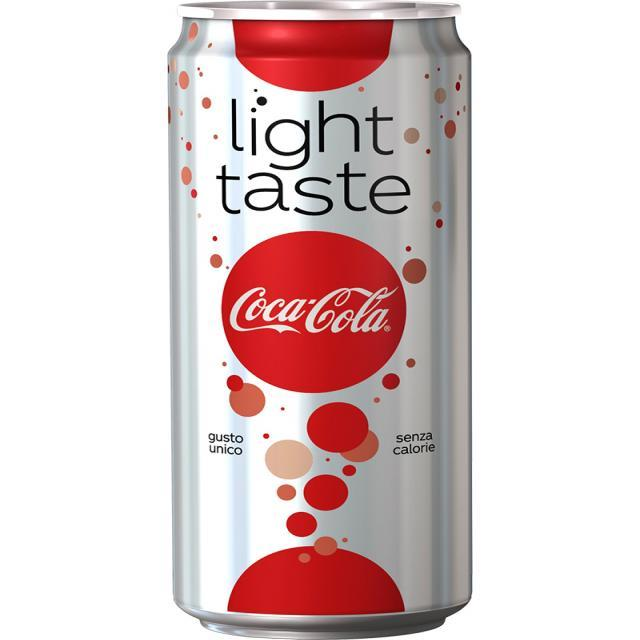Coke: (165, 0, 475, 640)
